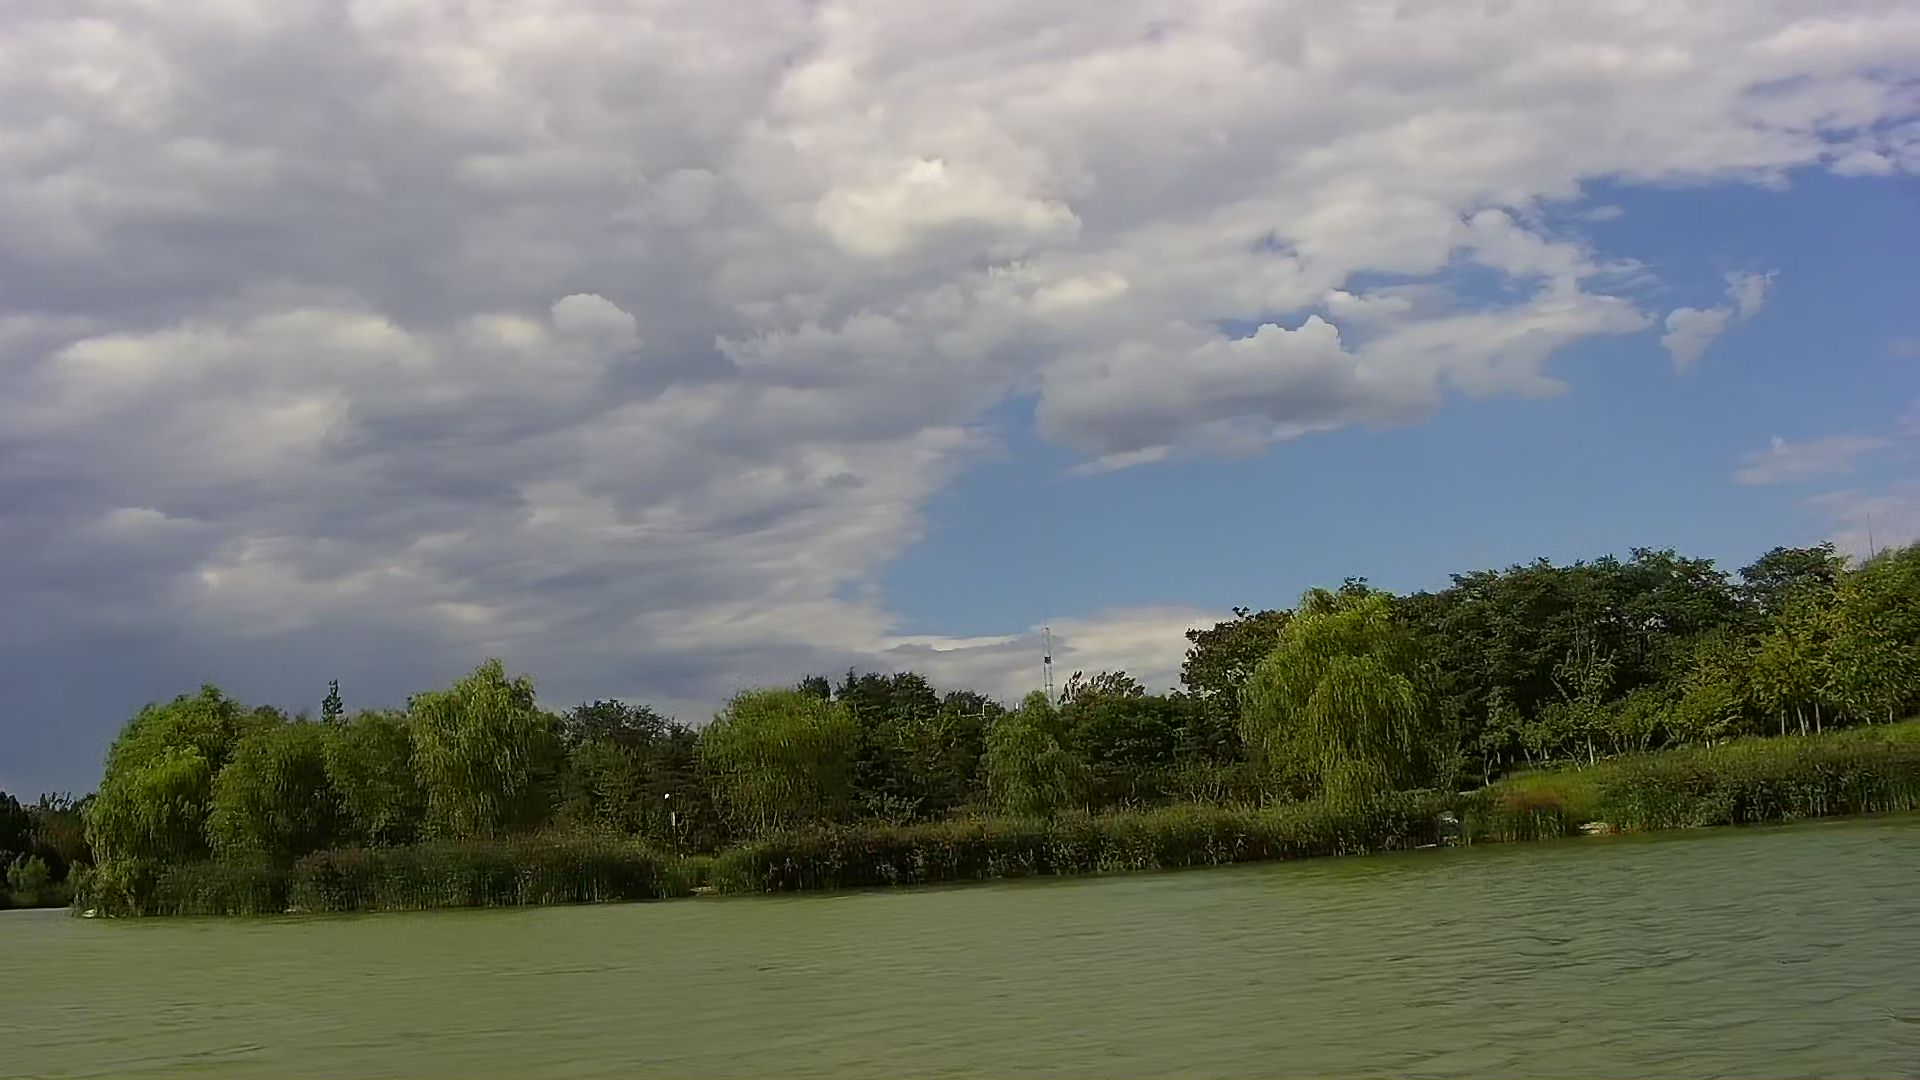rock: (1578, 820, 1614, 840)
